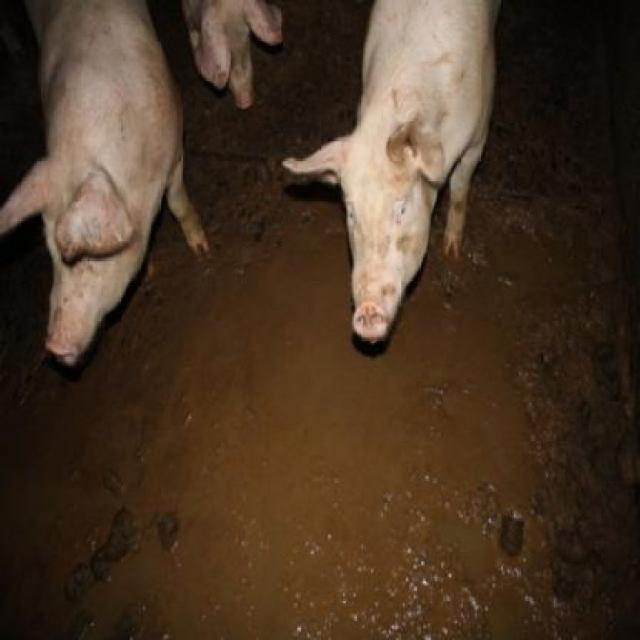pig: (0, 0, 212, 367), (281, 0, 501, 342), (183, 0, 283, 108)
